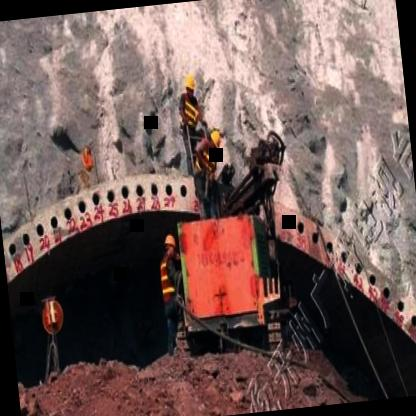helmet: (160, 232, 180, 263), (181, 72, 197, 101), (206, 127, 224, 152)
